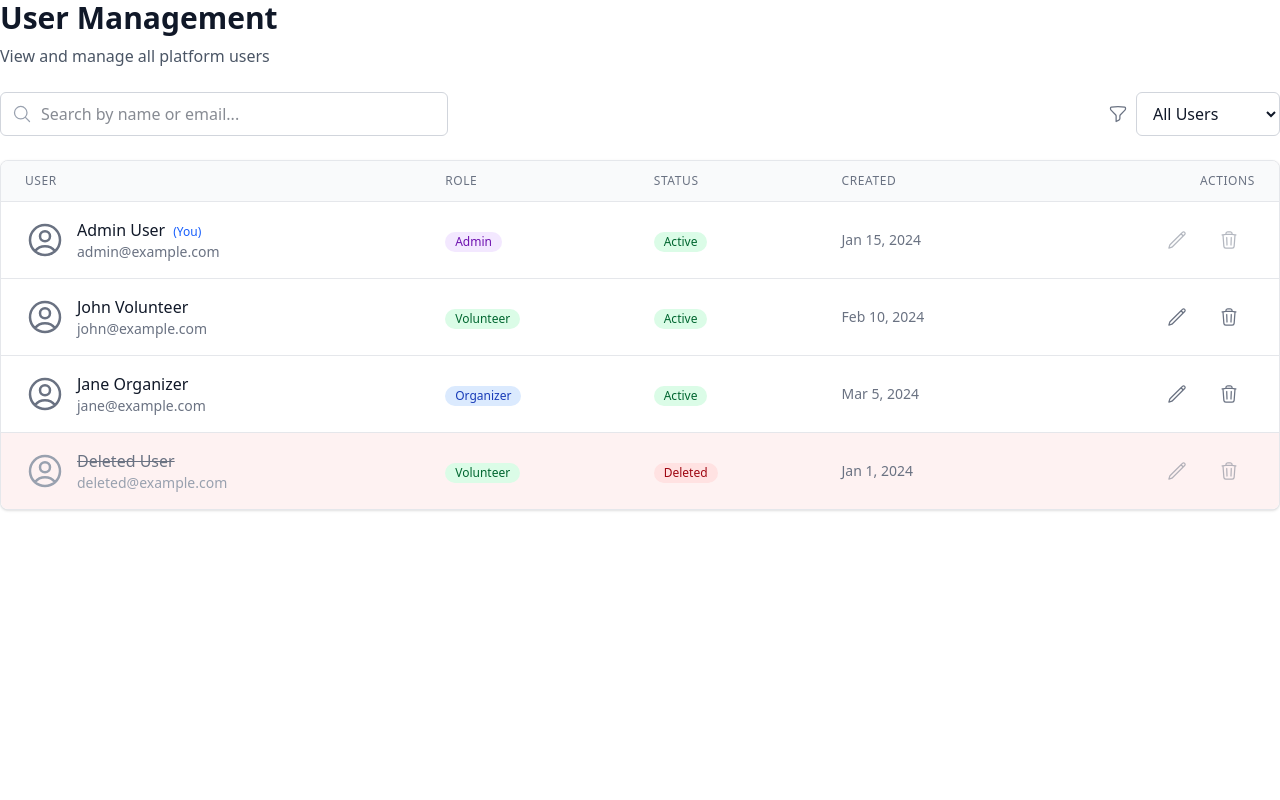
Scenario: AdminUsersPage › closes modal when clicking cancel
Expected: the text "John Volunteer" is shown, x1=77 y1=295 x2=207 y2=319
Note: Open modal
Step 1. Click the button titled "Change role" in the row of "John Volunteer" → click(1181, 317), box x1=1159 y1=295 x2=1203 y2=339
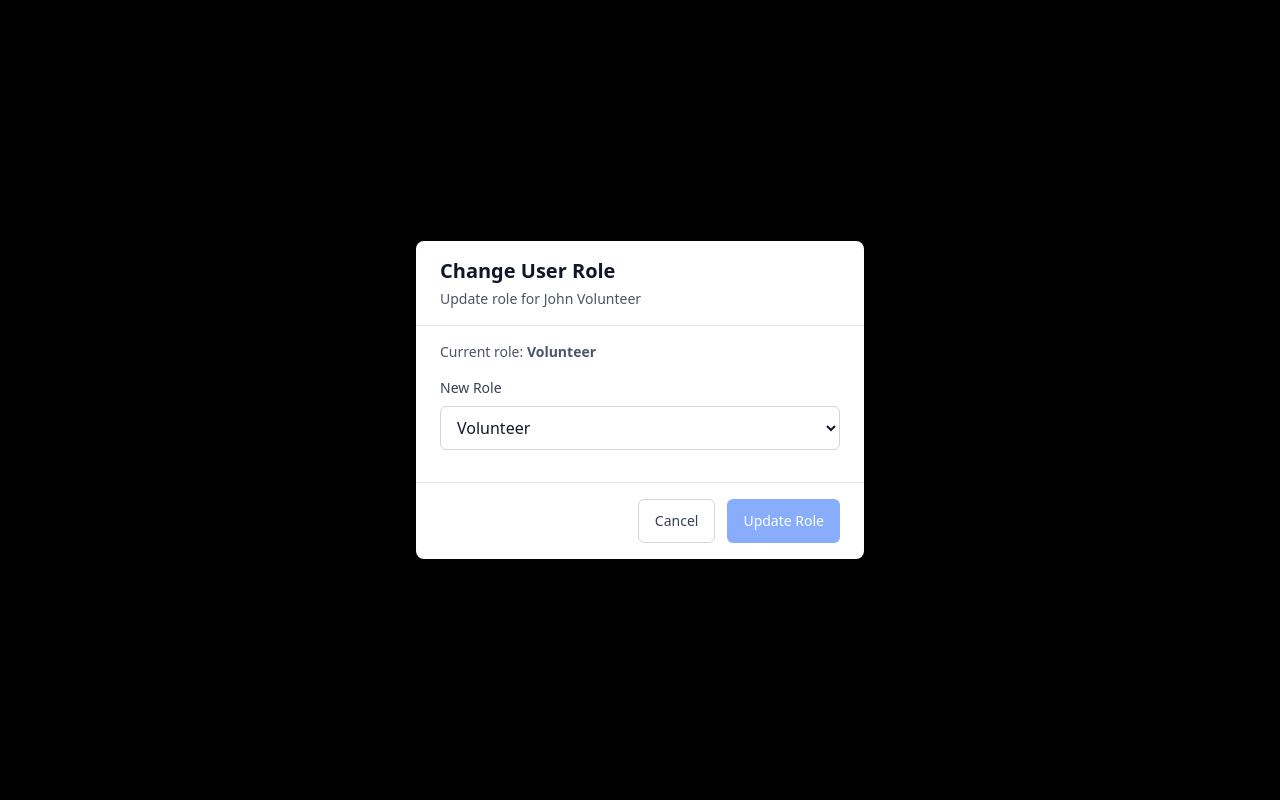
Expected: the heading "Change User Role" is shown, x1=440 y1=257 x2=616 y2=284
Note: Click Cancel
Step 2. Click the button "Cancel" → click(677, 521), box x1=638 y1=499 x2=715 y2=543
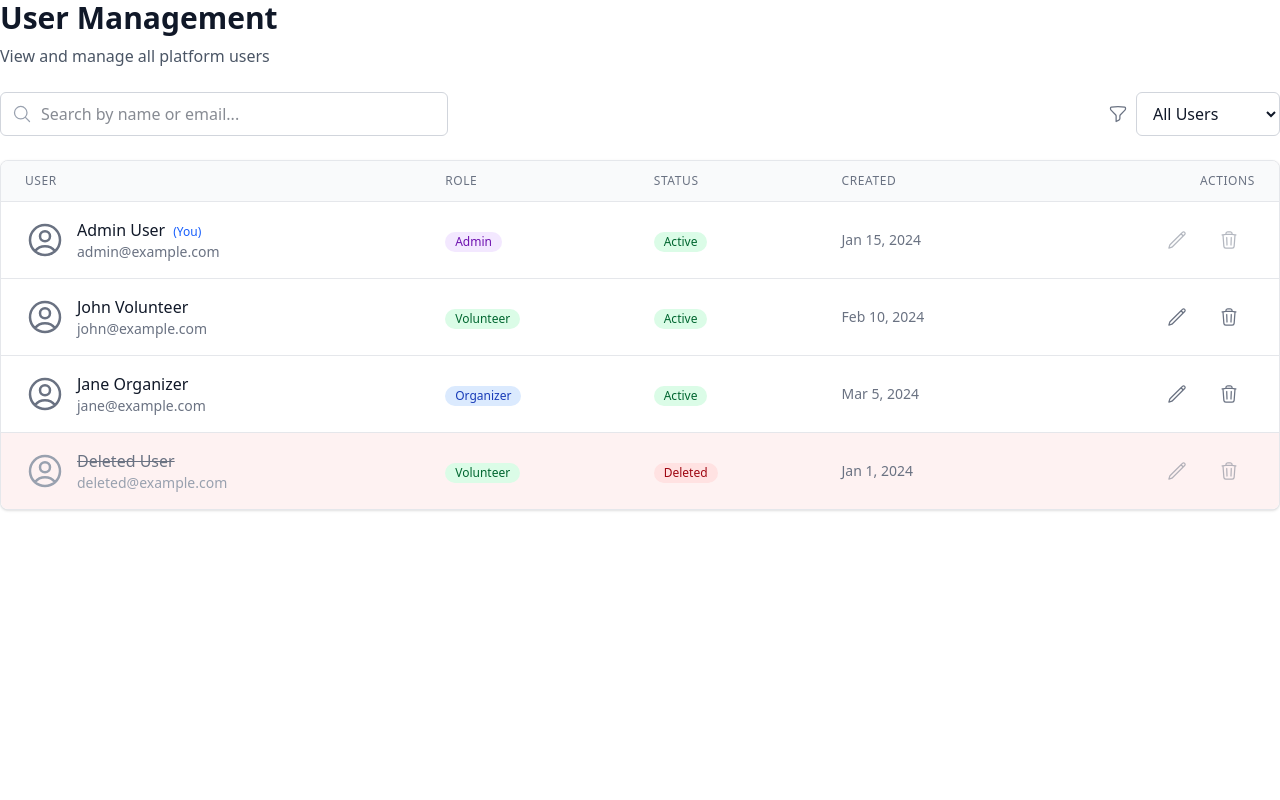
Expected: the heading "Change User Role" is gone
